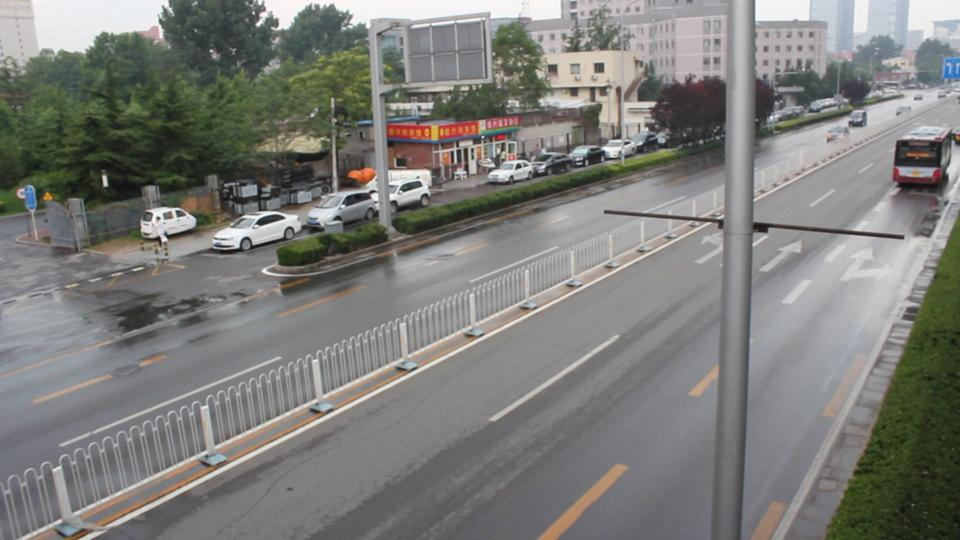bus: (893, 126, 954, 186)
car: (210, 211, 307, 252), (303, 189, 381, 232), (140, 207, 197, 239), (487, 160, 536, 185), (530, 152, 577, 176), (568, 145, 611, 167), (604, 139, 635, 158), (808, 97, 843, 113), (848, 110, 867, 127)
truck: (358, 169, 433, 213)
